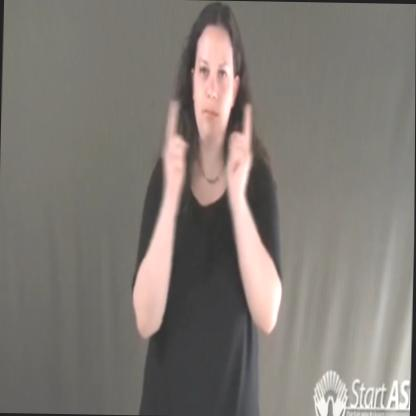NiceToMeetYou: (157, 99, 265, 210)
